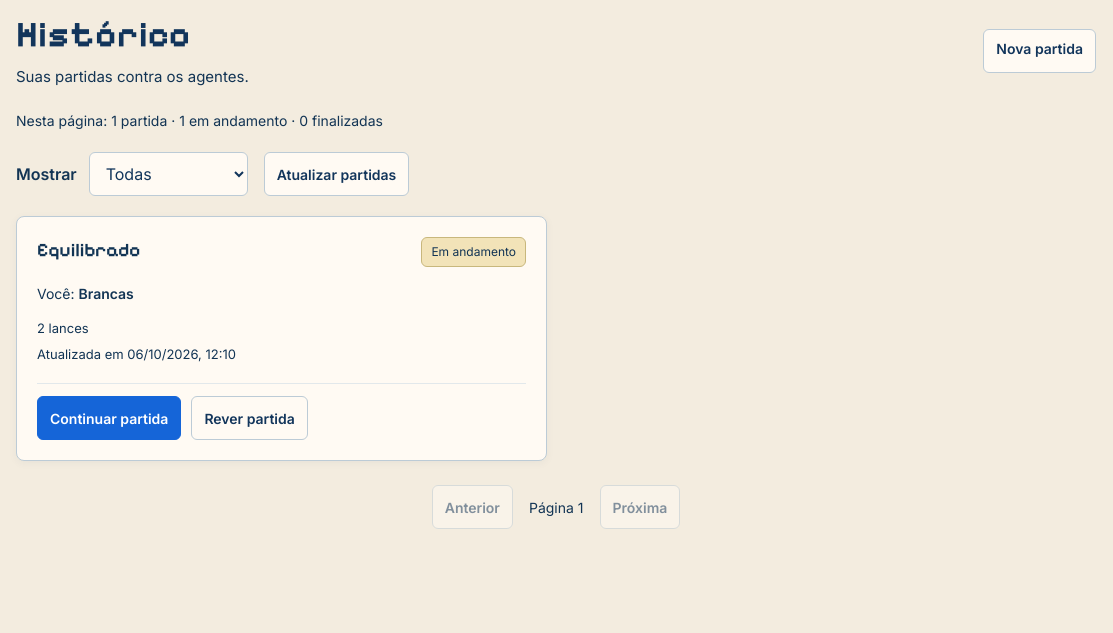
Scenario: erro de outro filtro identifica a lista anterior e retry mantém o filtro pedido
Check: the heading "Equilibrado" is shown, box [37,239,140,261]
Select "Finalizadas" in the dropdown at (168, 174), box [89,152,248,196]
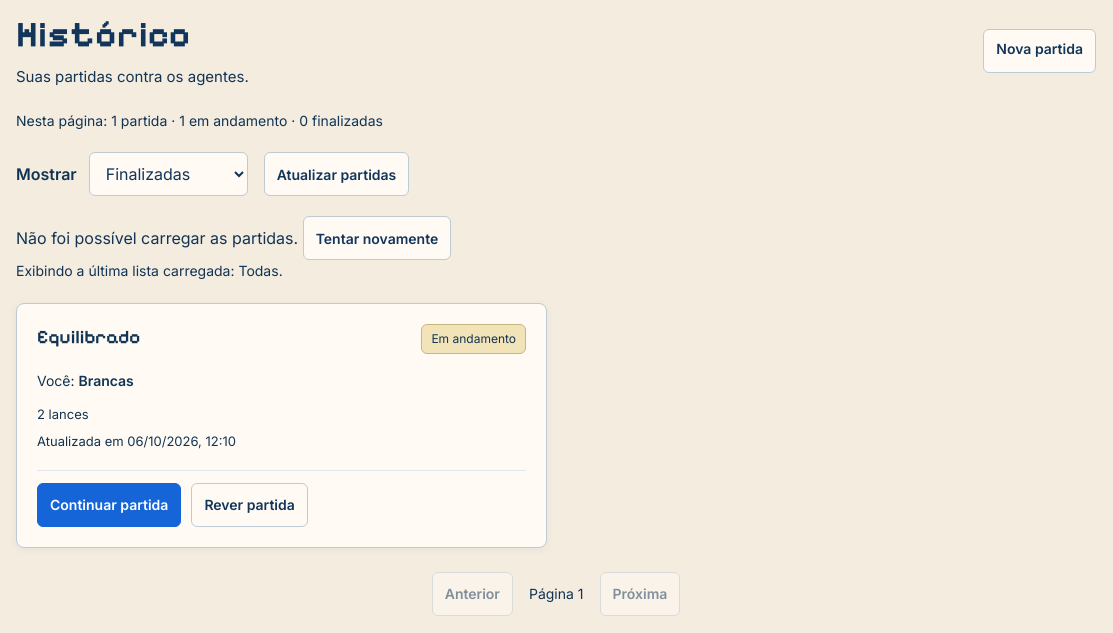
Check: the message "Não foi possível carregar as partidas. Tentar novamente" is shown, box [16,216,451,260]
Check: the text "Exibindo a última lista carregada: Todas." is shown, box [16,262,283,279]
Click the button "Tentar novamente".
click(377, 238)  # box [303,216,451,260]
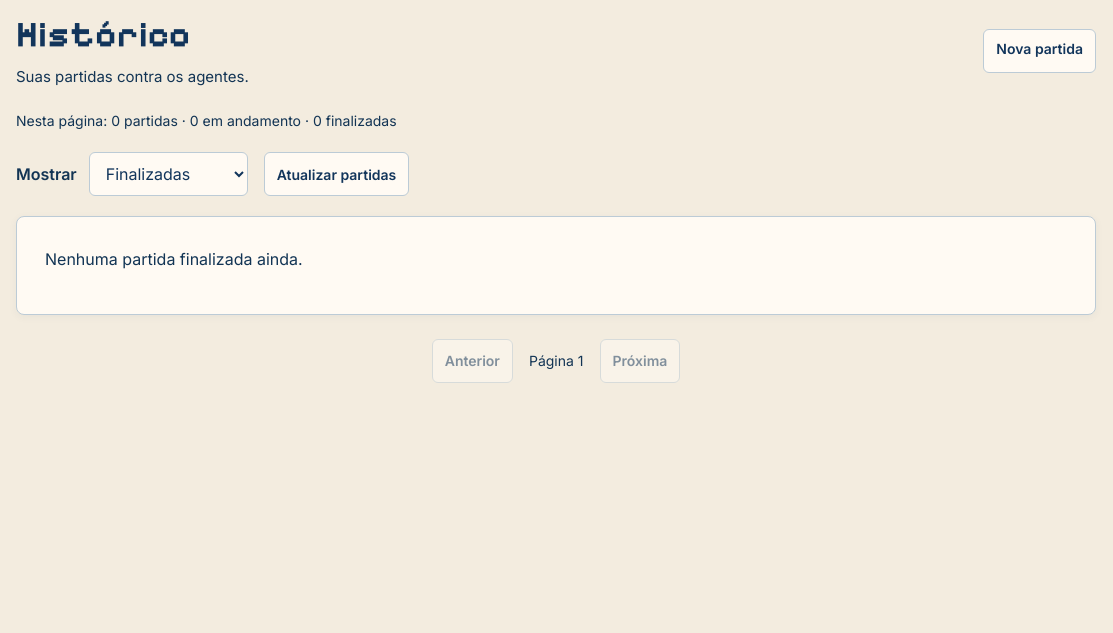
Check: the heading "Nenhuma partida finalizada ainda." is shown, box [45,249,303,269]
